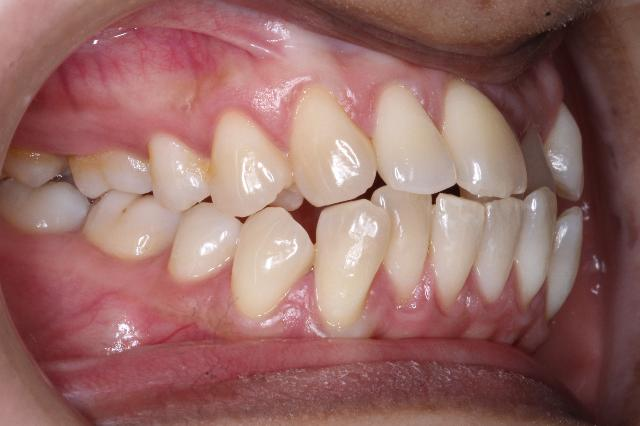molar class I: (68, 144, 180, 266)
molar class II 1/4: (235, 82, 392, 330)
